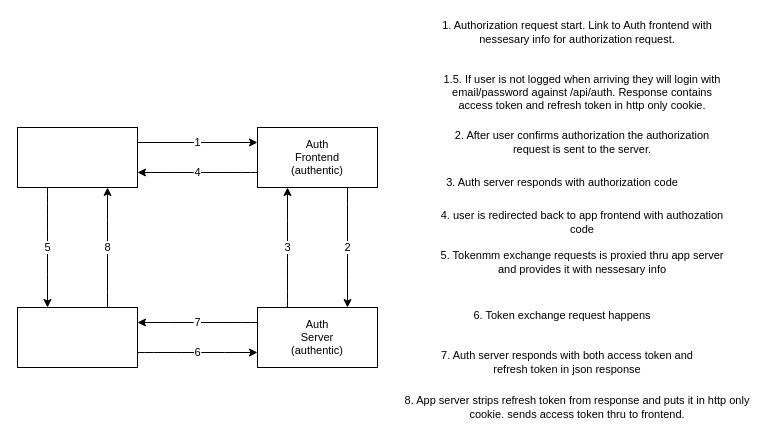
Image size: 770x444. Some labels were removed from this diagram. Each missing label, with the centre of its shape:
App Frontend (any): the point at 77,157
App server (any): the point at 77,337
